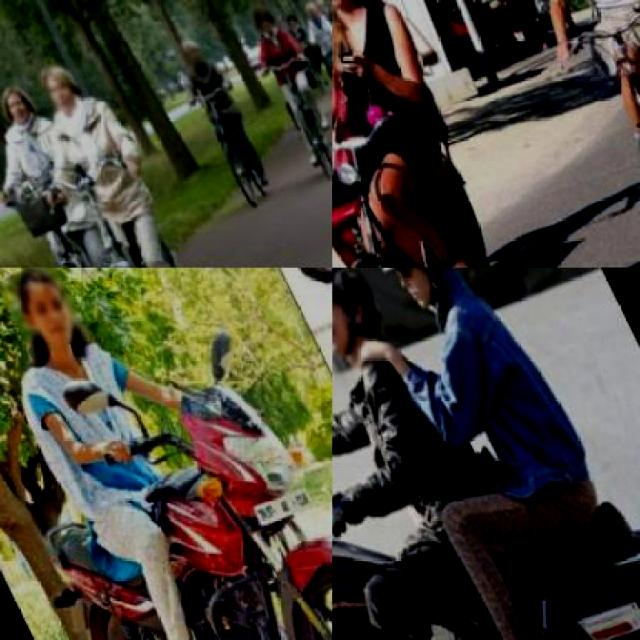With Helmet: (332, 268, 408, 384), (355, 268, 477, 320)
Without Helmet: (0, 267, 95, 366), (35, 55, 91, 122), (0, 75, 49, 140), (178, 27, 215, 71), (248, 0, 282, 34), (298, 0, 331, 28)
